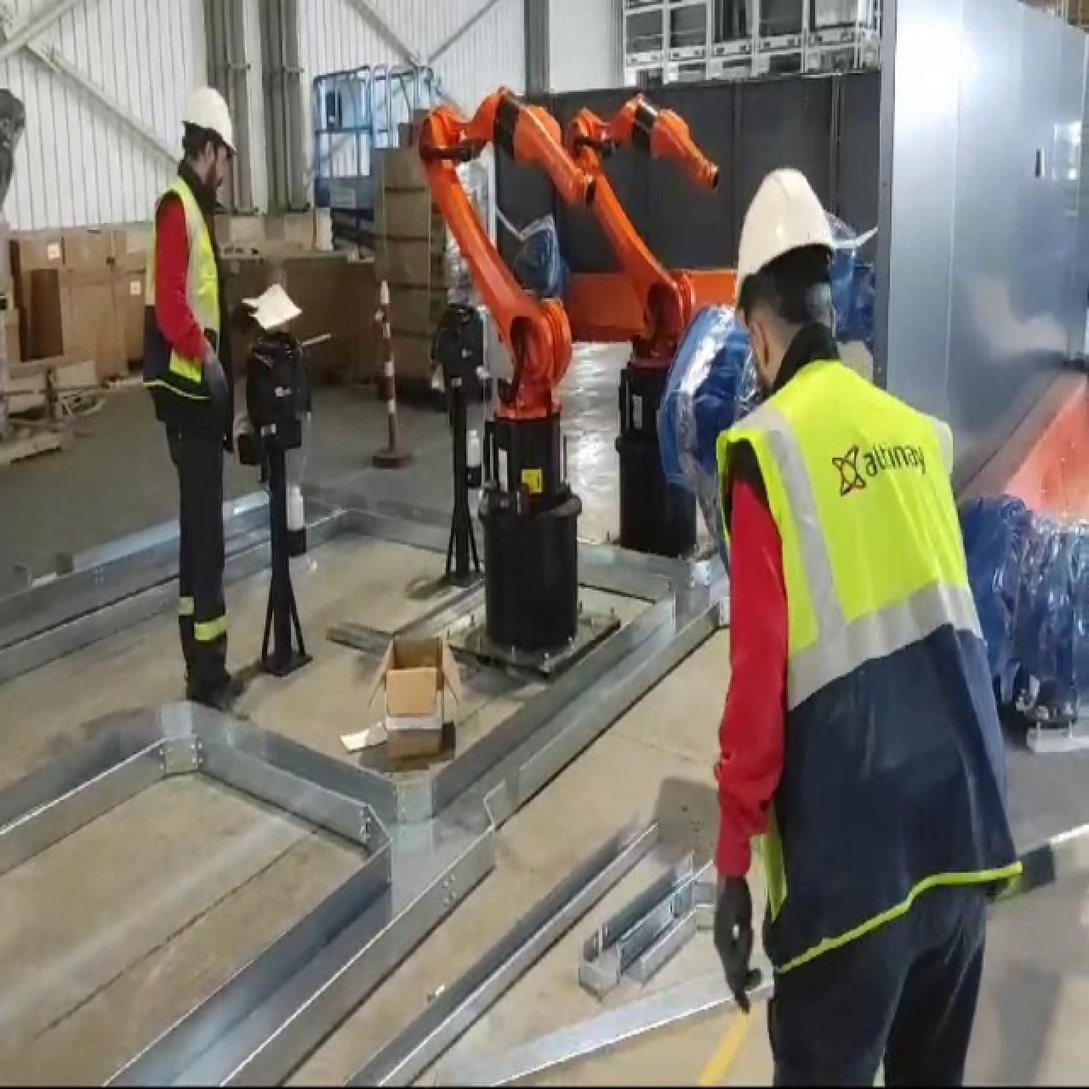Person: (694, 156, 1021, 1089), (136, 65, 283, 713)
Safety_Vest: (720, 381, 1027, 966), (151, 176, 247, 419)
